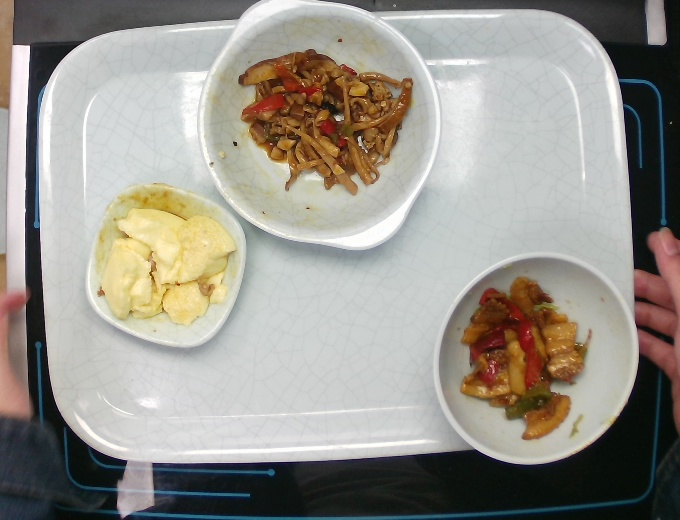JYsf-Fan_Wan: (431, 250, 642, 468)
JYsf-Shuang_Er_Wan: (194, 1, 444, 254)
JYsf-Si_Fang_Die: (82, 182, 249, 352)
